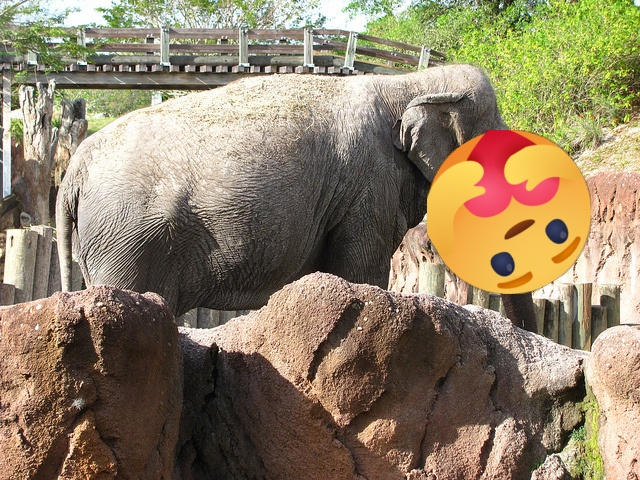care: (427, 130, 591, 294)
